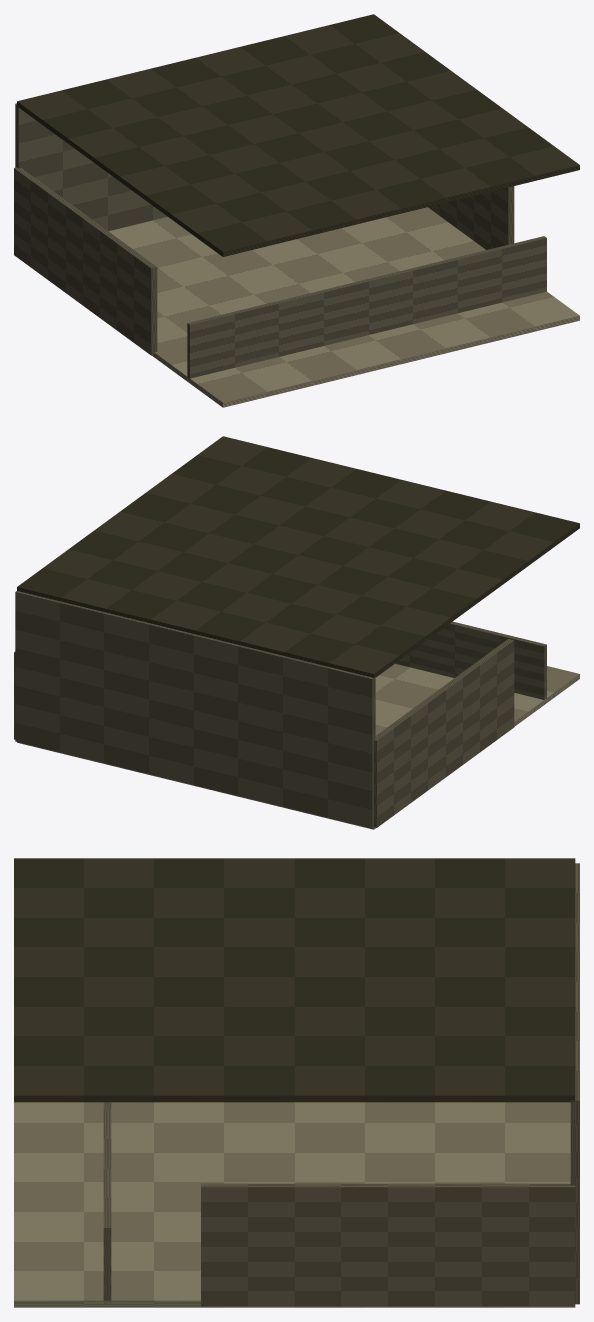
The model's file is cubicle.glb.
3 views of the same model, one above another, from view 1: azimuth 30°, elevation 25°; view 2: azimuth 150°, elevation 25°; view 3: azimuth 270°, elevation 25° (orthographic). The views are drawn at different scales.
Parts seen in each view (by area): view 1: cubicle; view 2: cubicle; view 3: cubicle.
Boxes of the visible parts, x1,y1,x2,y2 form: cubicle: [14, 14, 579, 407]; cubicle: [14, 436, 579, 829]; cubicle: [14, 858, 579, 1307].
Size of the model in its own units: 6.1 by 2.5 by 6.05.
1 material, 1 textured.
